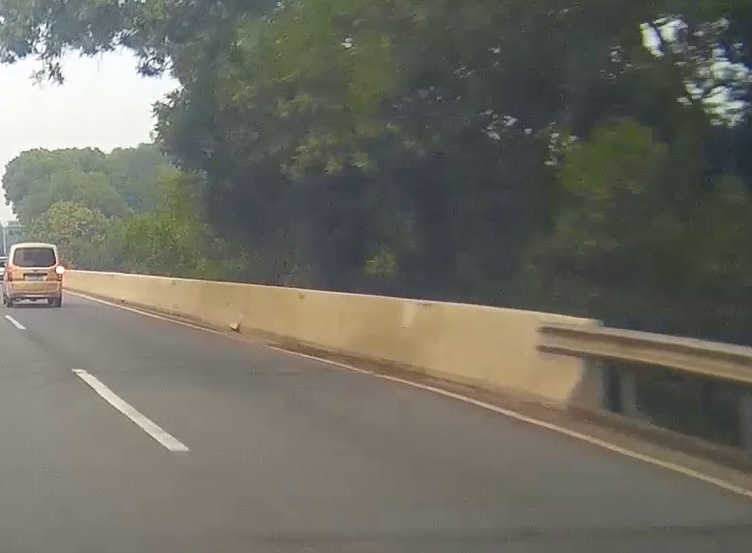L_light: (7, 266, 12, 281)
R_light: (58, 267, 61, 281)
T_light: (29, 248, 38, 250)
day-right: (6, 244, 62, 307)
